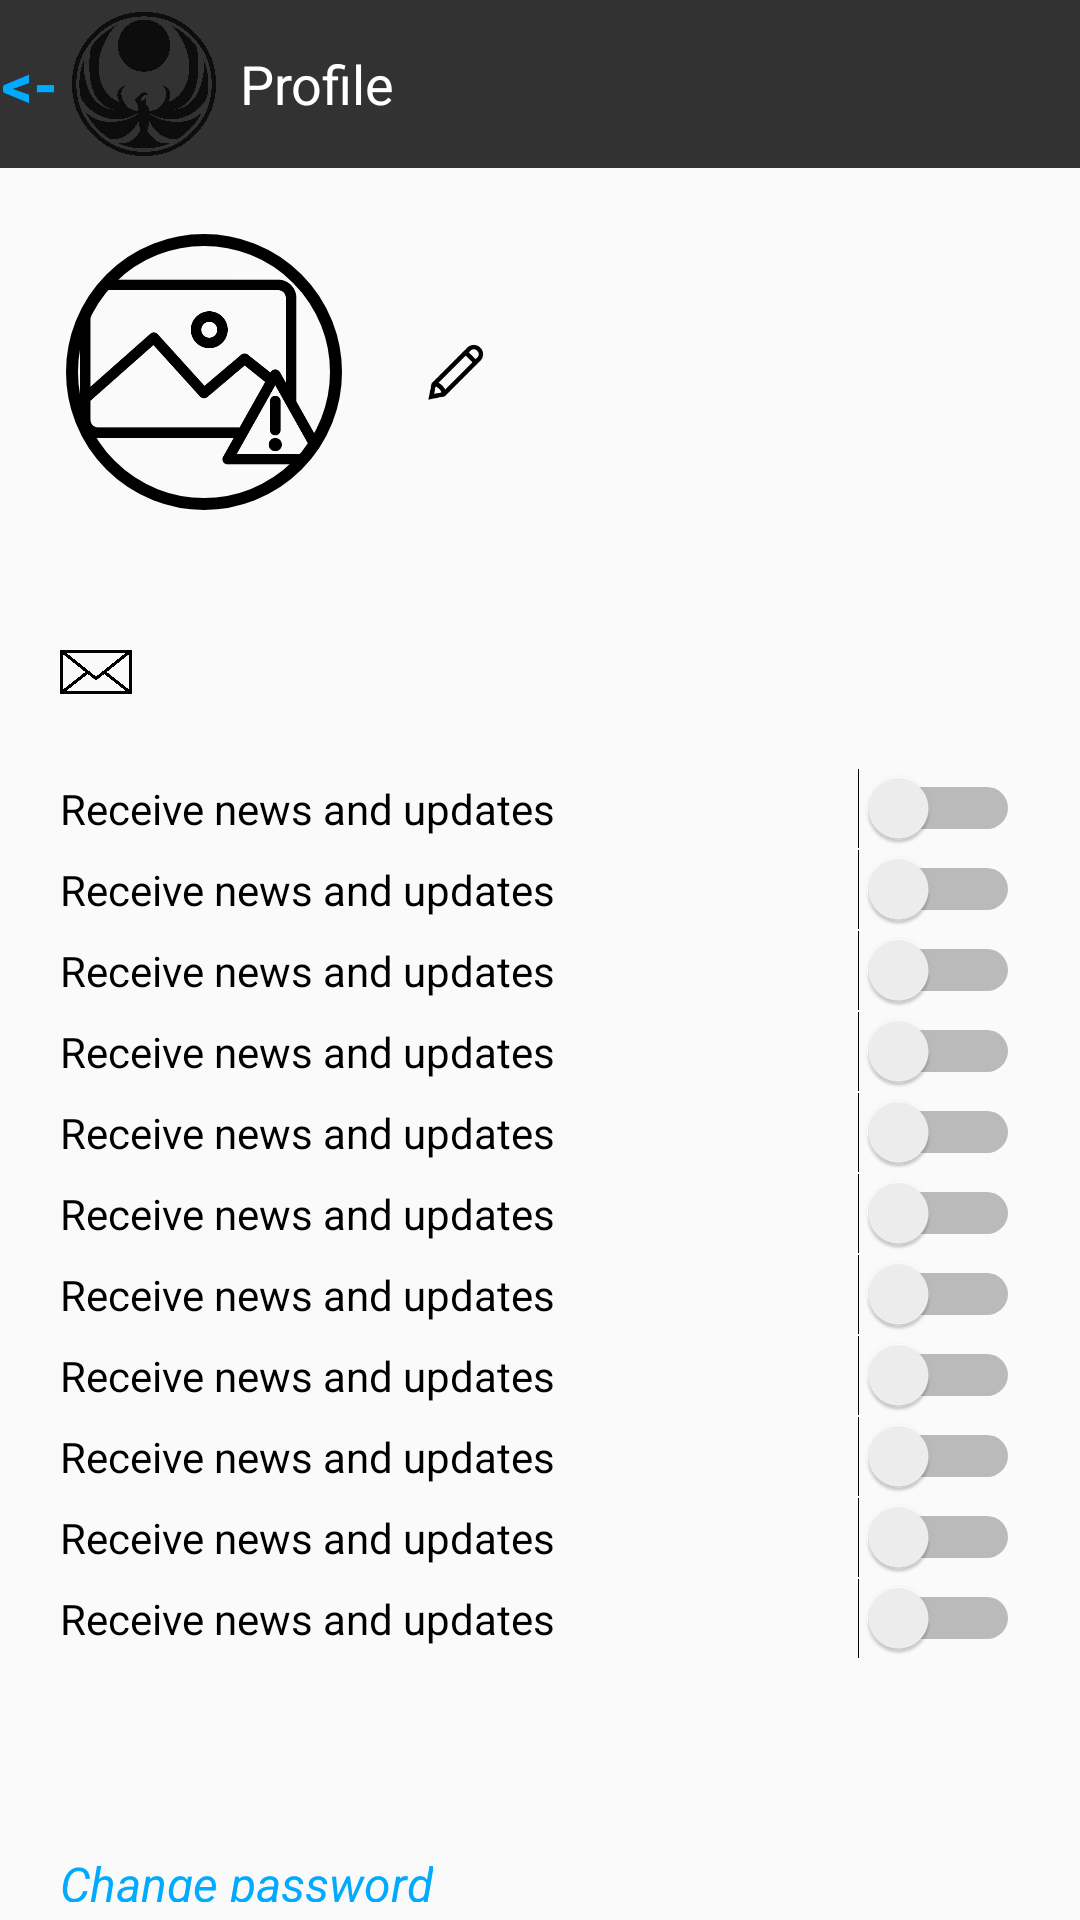

Locate icon controls on the screen. Image size 1080 x 1920, boxes as (x1, y1, x2, y2).
edit: (428, 345, 483, 400)
error: (66, 234, 342, 510)
post: (60, 650, 132, 694)
